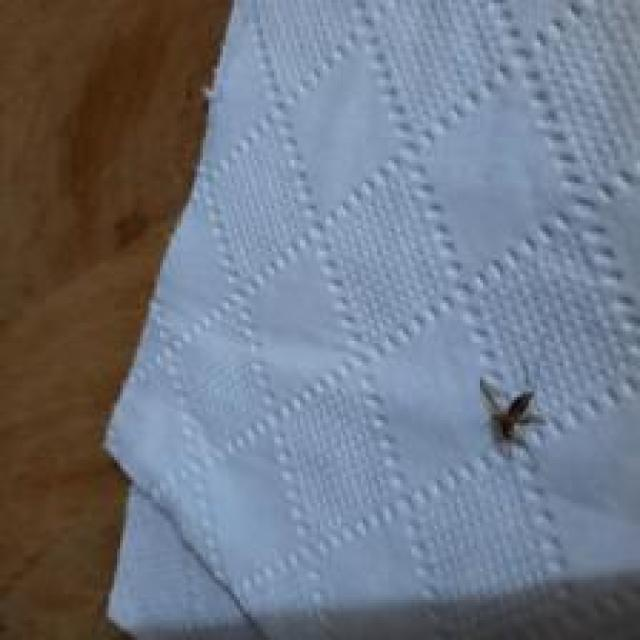Culex: (477, 374, 546, 449)
